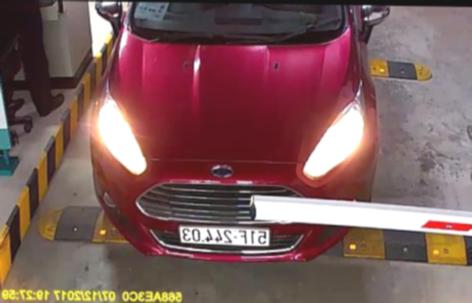License_Plate: (176, 222, 272, 249)
